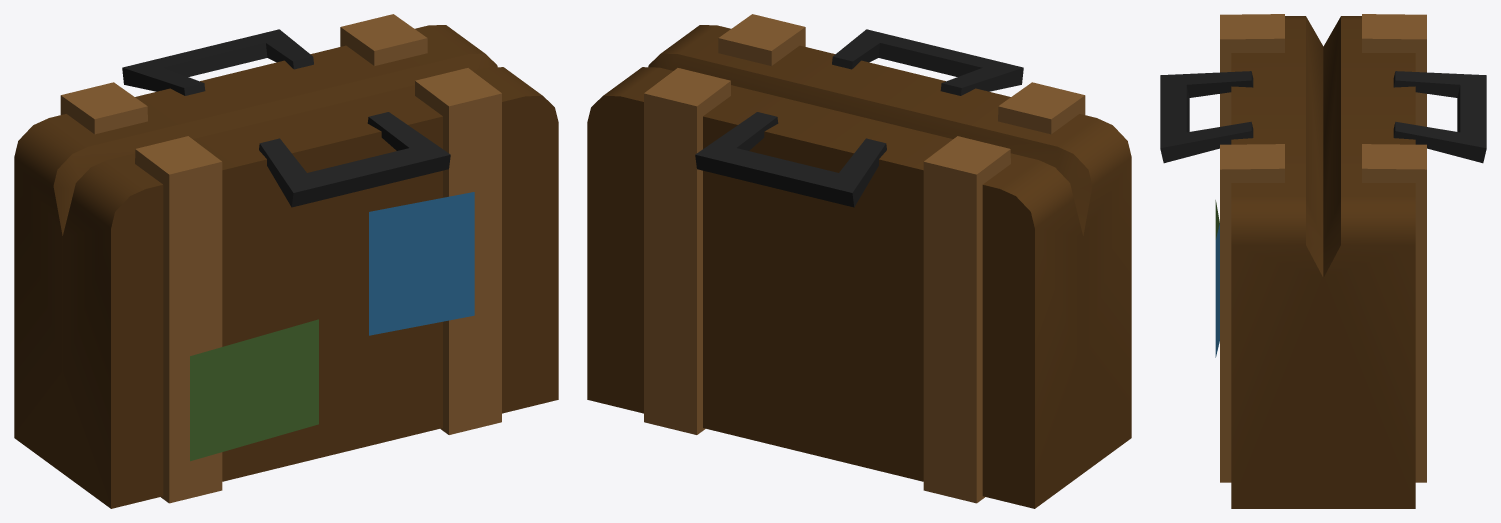
Rendered from bag_suitcase_big_01.fbx.
3 views of the same model, side by side, from view 1: azimuth 30°, elevation 25°; view 2: azimuth 150°, elevation 25°; view 3: azimuth 270°, elevation 25° (orthographic). The views are drawn at different scales.
Parts seen in each view (by area): view 1: bag_suitcase_big_01; view 2: bag_suitcase_big_01; view 3: bag_suitcase_big_01.
Boxes of the visible parts, bbox=[...] form: bag_suitcase_big_01: bbox=[14, 14, 558, 508]; bag_suitcase_big_01: bbox=[587, 14, 1131, 508]; bag_suitcase_big_01: bbox=[1160, 14, 1486, 508].
Size of the model in its own units: 72.34 by 50.91 by 47.98.
